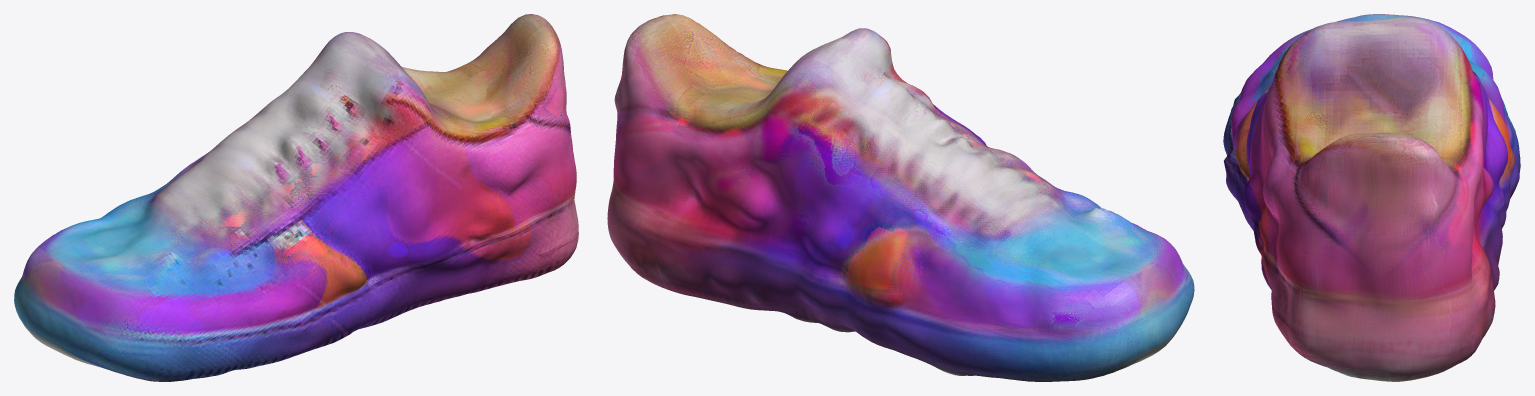
The picture shows the model from 3 angles, left to right: view 1: azimuth 30°, elevation 25°; view 2: azimuth 150°, elevation 25°; view 3: azimuth 270°, elevation 25°; orthographic projection. The views are drawn at different scales.
Parts seen in each view (by area): view 1: image.obj; view 2: image.obj; view 3: image.obj.
Part boxes in pixels (x1,y1,x2,y2): image.obj: [14, 14, 578, 381]; image.obj: [607, 14, 1194, 381]; image.obj: [1223, 14, 1520, 381].
Bounding box in the file's own units: 1.42 × 0.6324 × 0.6255.
Materials: 1 (1 with a texture image).
